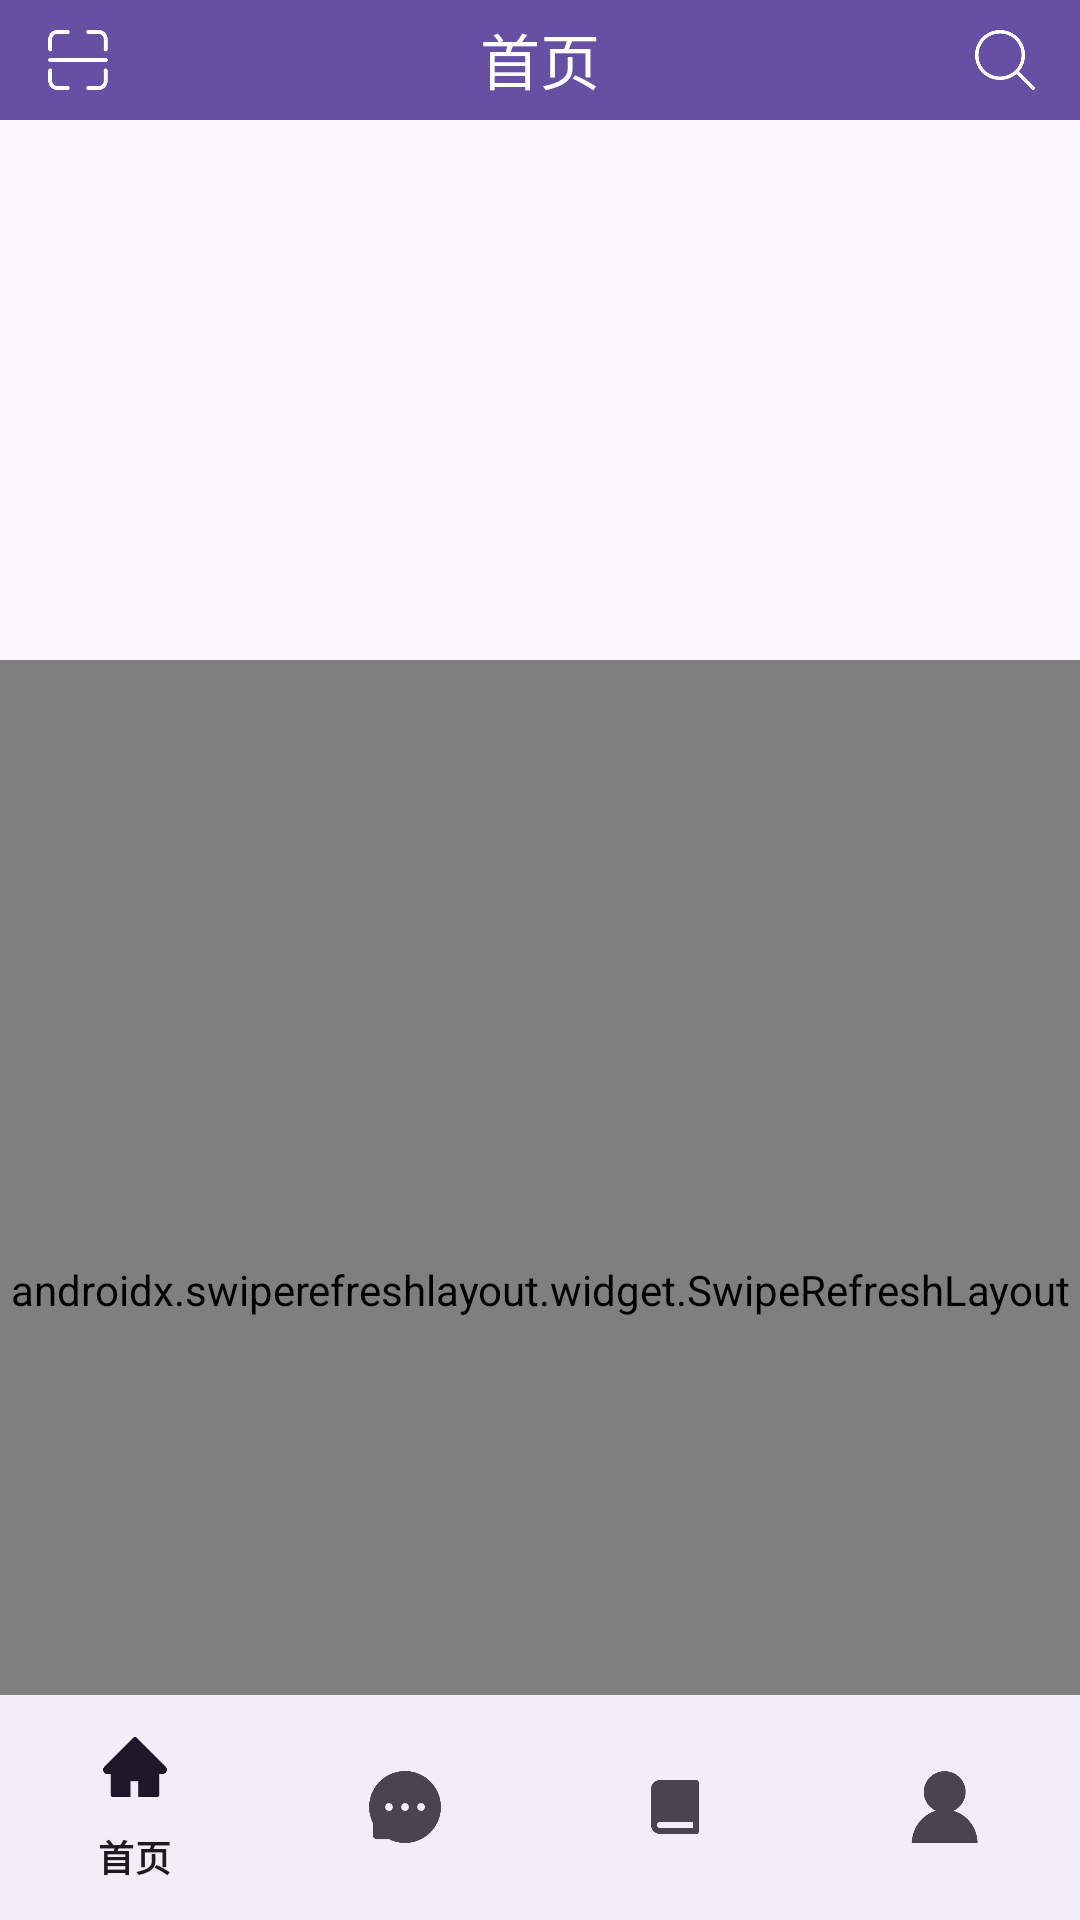

Point at icon controls on the screen. Image size 1080px x 1920px, points as [x,y].
扫描: [78,60]
搜索: [1005,60]
